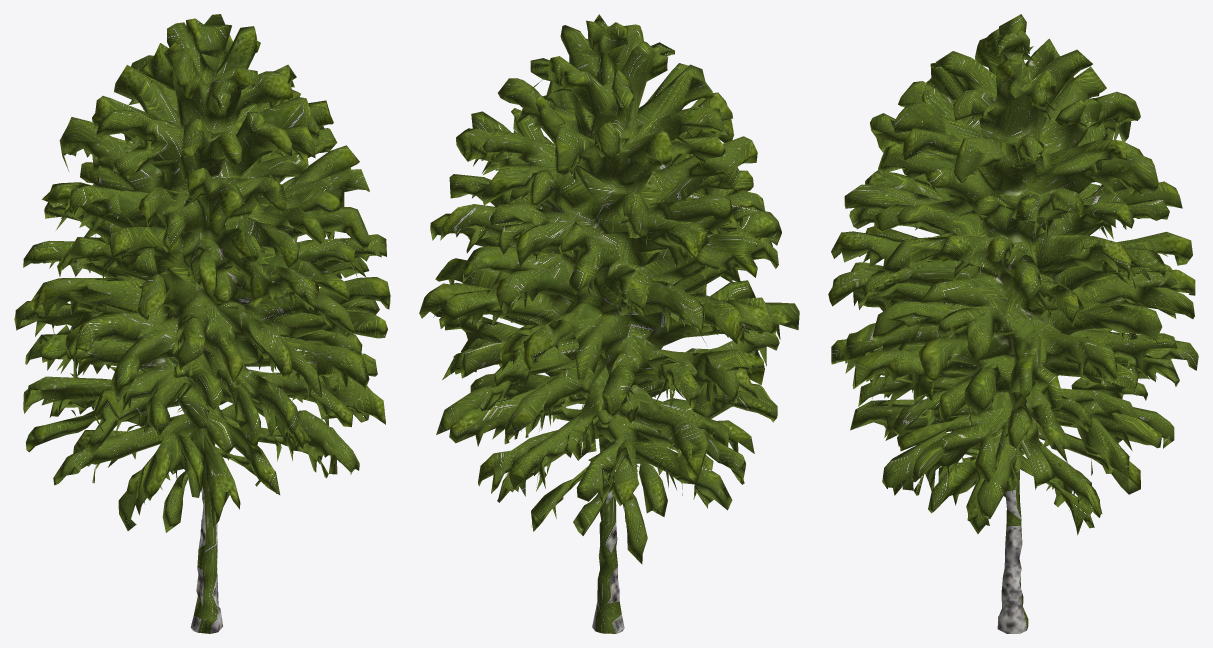
Rendered from birch.glb.
3 renders of one model, left to right at view 1: azimuth 30°, elevation 25°; view 2: azimuth 150°, elevation 25°; view 3: azimuth 270°, elevation 25°, orthographic.
Size of the model in its own units: 3.6 by 6.39 by 3.53.
Materials: 1 (1 with a texture image).
